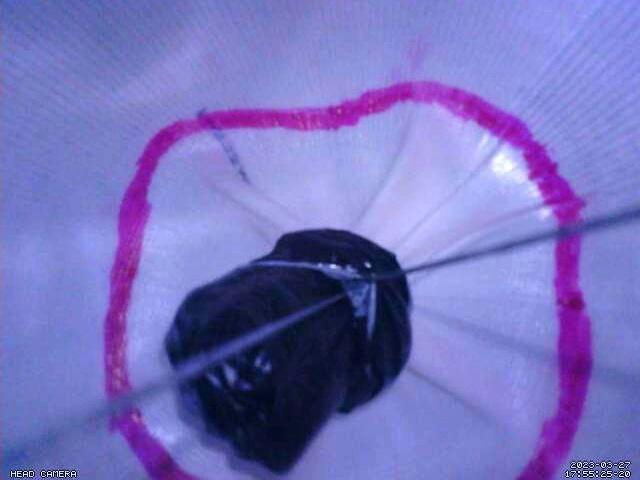red-circle: (103, 80, 596, 480)
